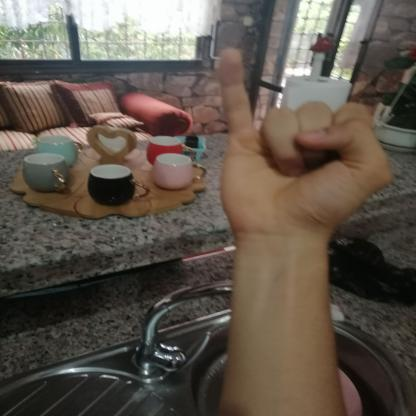MEEM: (189, 37, 407, 249)
